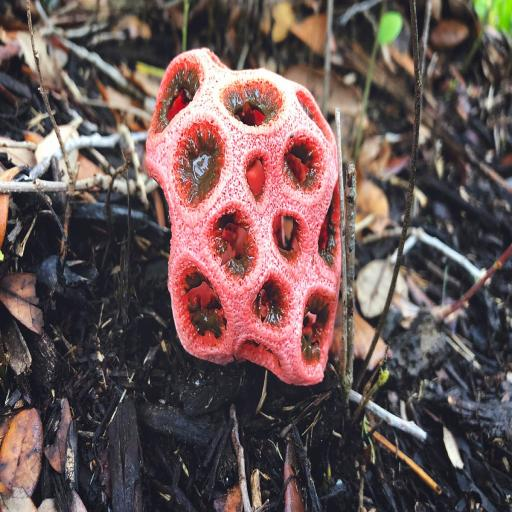Red Cage Fungus: (142, 43, 347, 390)
